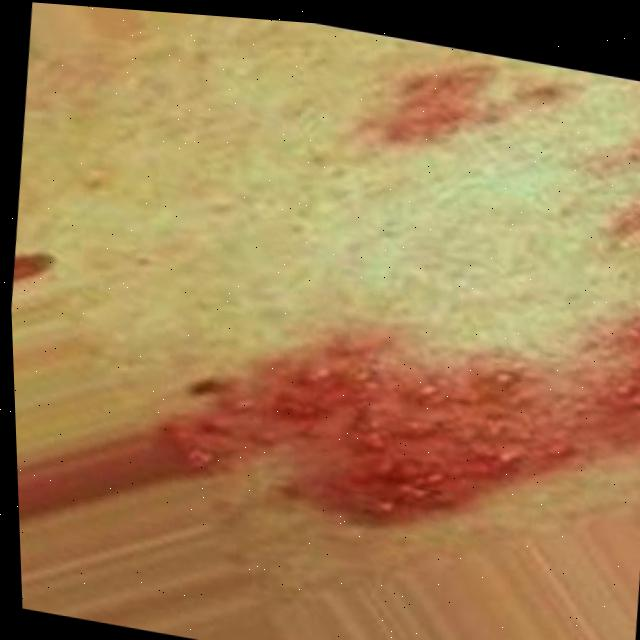Shingles: (153, 215, 640, 585), (335, 26, 640, 253)
